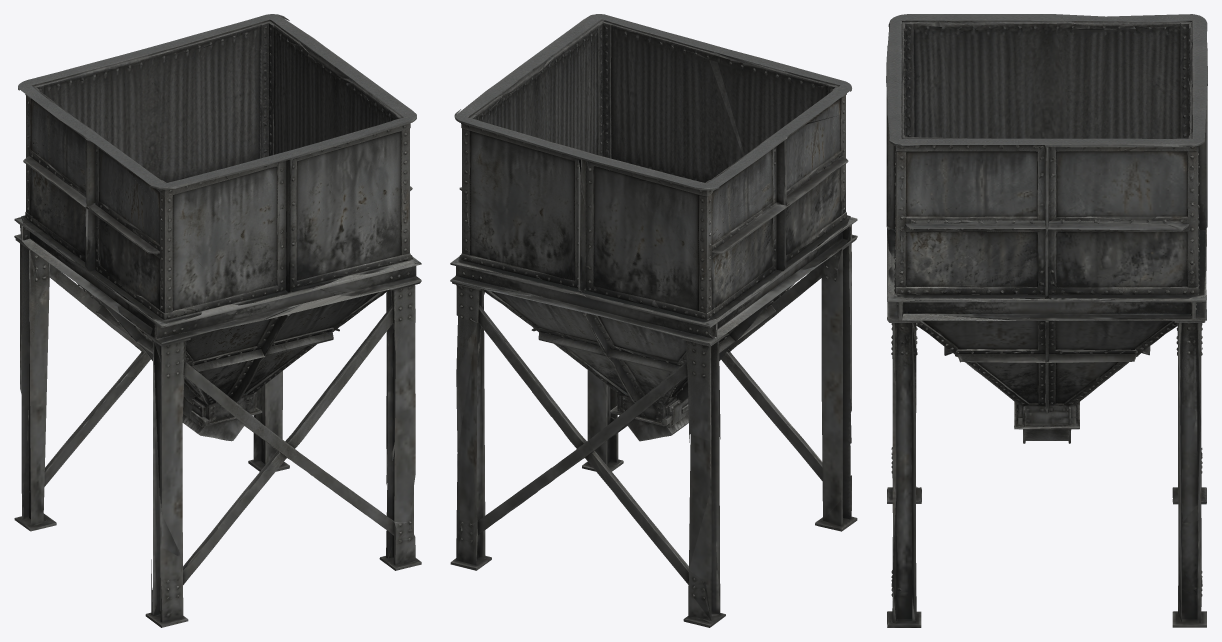
Rendered from siebhaus_hopper.glb.
The picture shows the model from 3 angles, left to right: view 1: azimuth 30°, elevation 25°; view 2: azimuth 150°, elevation 25°; view 3: azimuth 270°, elevation 25°; orthographic projection. The views are drawn at different scales.
Bounding box in the file's own units: 1.18 × 1.9 × 1.15.
Materials: 1 (1 with a texture image).
